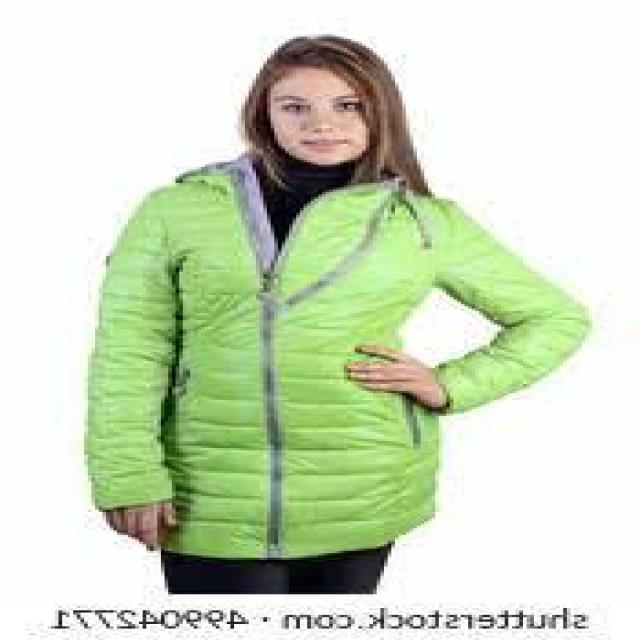coat: (82, 160, 594, 563)
